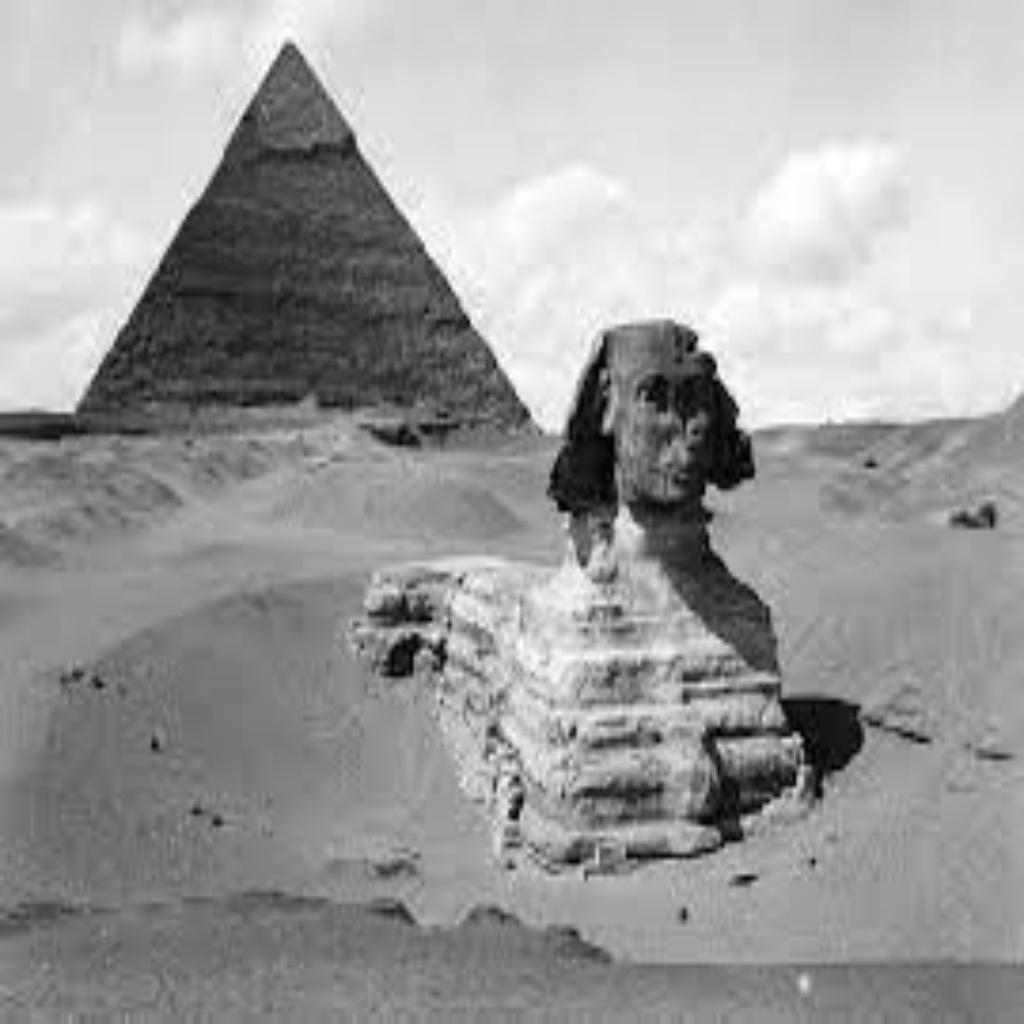Sphinx: (346, 314, 850, 876)
